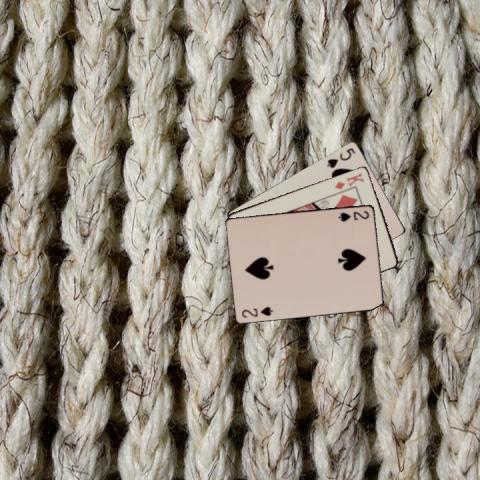2s: (335, 207, 371, 223), (239, 303, 274, 319)
5s: (324, 145, 357, 169)
Kd: (332, 169, 365, 191)
